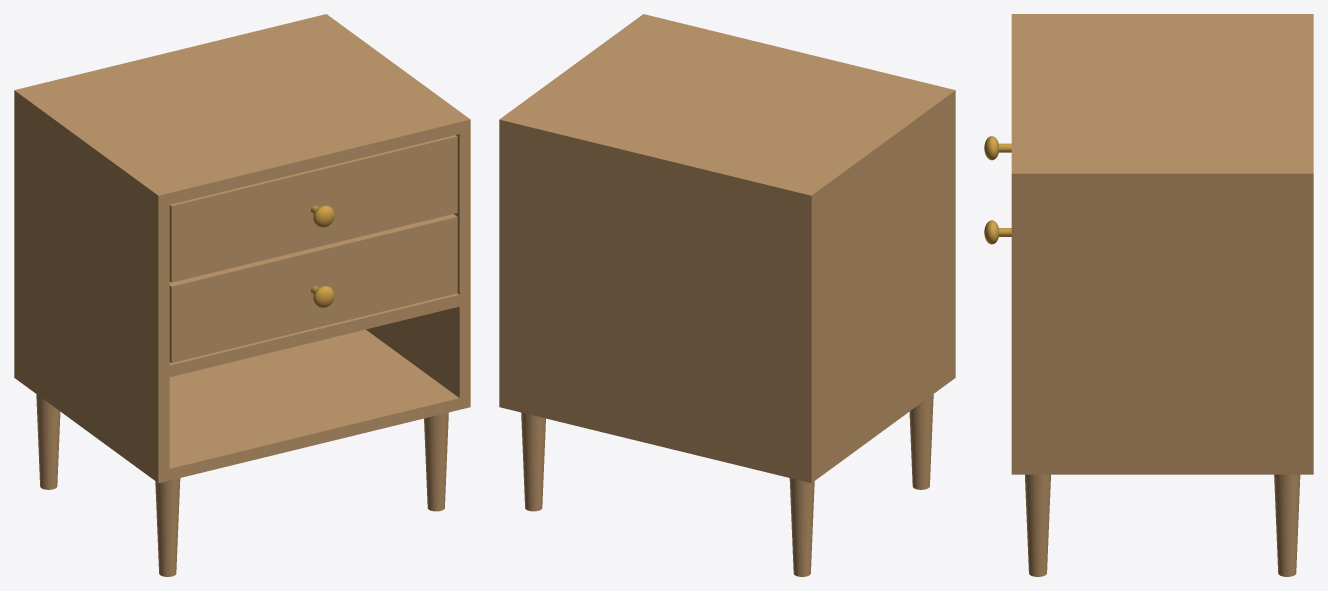
Rendered from 032_nightstand.glb.
3 renders of one model, left to right at view 1: azimuth 30°, elevation 25°; view 2: azimuth 150°, elevation 25°; view 3: azimuth 270°, elevation 25°, orthographic. The views are drawn at different scales.
Visible parts, largest first — view 1: 006_carcass_top, 004_carcass_side_l, 007_carcass_bottom, 010_drawer_1_front, 018_drawer_2_front, 005_carcass_side_r, 009_open_shelf, 001_leg, 003_leg, 000_leg; view 2: 008_carcass_back_panel, 006_carcass_top, 004_carcass_side_l, 005_carcass_side_r, 000_leg, 002_leg, 001_leg; view 3: 005_carcass_side_r, 006_carcass_top, 002_leg, 003_leg, 004_carcass_side_l.
Part boxes in pixels (<box>): 006_carcass_top: <box>14,14,470,206</box>; 004_carcass_side_l: <box>14,87,169,483</box>; 007_carcass_bottom: <box>169,329,459,480</box>; 010_drawer_1_front: <box>169,214,457,362</box>; 018_drawer_2_front: <box>169,135,457,282</box>; 005_carcass_side_r: <box>315,14,470,409</box>; 009_open_shelf: <box>169,293,459,376</box>; 001_leg: <box>155,478,180,576</box>; 003_leg: <box>424,412,448,511</box>; 000_leg: <box>36,394,60,489</box>; 008_carcass_back_panel: <box>510,134,800,480</box>; 006_carcass_top: <box>499,14,955,206</box>; 004_carcass_side_l: <box>800,87,955,483</box>; 005_carcass_side_r: <box>499,14,653,409</box>; 000_leg: <box>789,478,814,576</box>; 002_leg: <box>521,412,545,511</box>; 001_leg: <box>909,394,933,489</box>; 005_carcass_side_r: <box>1011,168,1313,474</box>; 006_carcass_top: <box>1011,14,1313,184</box>; 002_leg: <box>1274,474,1300,576</box>; 003_leg: <box>1025,474,1050,576</box>; 004_carcass_side_l: <box>1011,14,1313,19</box>.
Size of the model in its own units: 0.5 by 0.6 by 0.436.
